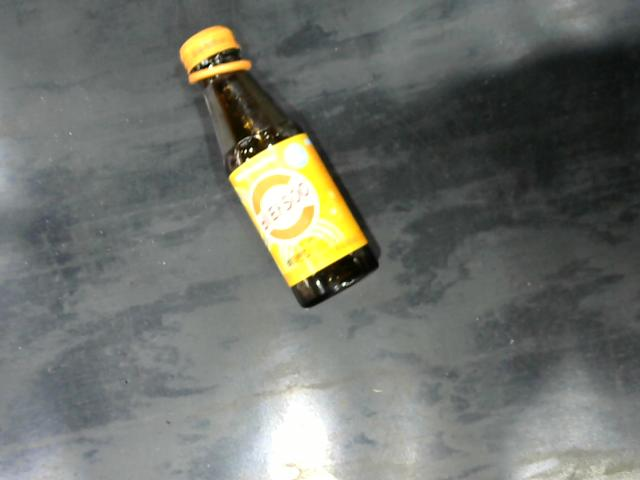glass: (178, 25, 387, 312)
